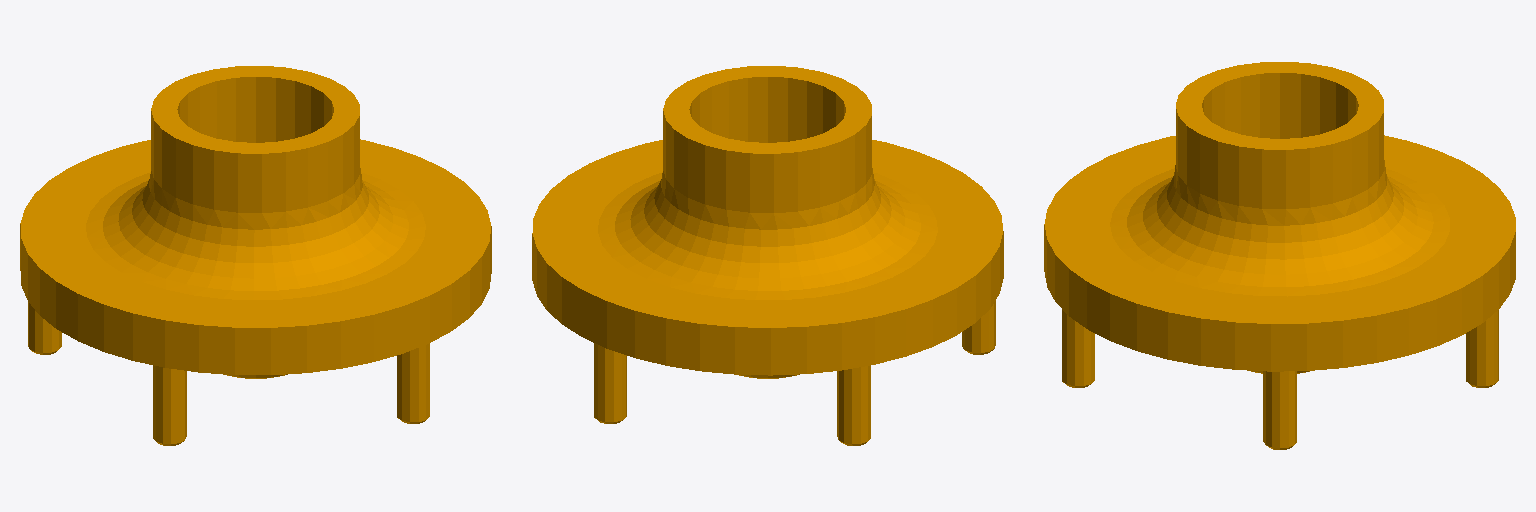
The robot description file, URDF, robot "00652_socket":
<?xml version="1.0"?>
<robot name="00652_socket">
	<link name="00652_socket">
		<visual>
			<geometry>
				<mesh filename="../mesh/00652/asset_socket.obj"/>
			</geometry>
		</visual>
		<collision>
			<geometry>
				<mesh filename="../mesh/00652/asset_socket.obj"/>
			</geometry>
			<sdf resolution="256"/>
		</collision>
	</link>
</robot>

--- Render facts (derived) ---
3 views of the same robot in one strip: view 1: azimuth 30°, elevation 25°; view 2: azimuth 150°, elevation 25°; view 3: azimuth 270°, elevation 25° (orthographic).
Model 00652_socket with 1 links and 0 joints (none), rooted at 00652_socket, posed every joint at zero.
Links seen in each view (by area): view 1: 00652_socket; view 2: 00652_socket; view 3: 00652_socket.
Boxes of the visible links, x1,y1,x2,y2 form: 00652_socket: [20, 66, 491, 445]; 00652_socket: [532, 66, 1003, 445]; 00652_socket: [1044, 62, 1515, 449].
Bounding box of the posed robot: 0.0397 × 0.0397 × 0.0232 m (x, y, z).
1 mesh visuals loaded from 1 distinct referenced files (1 OBJ).
